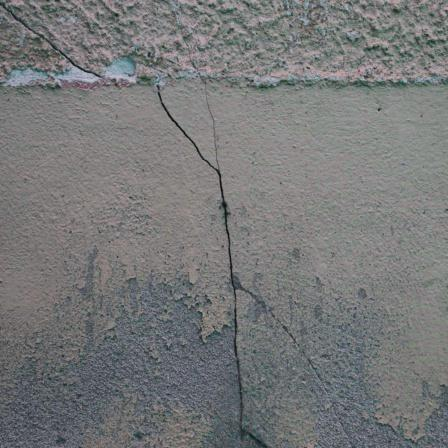crack: (75, 0, 359, 448), (0, 1, 111, 90)
